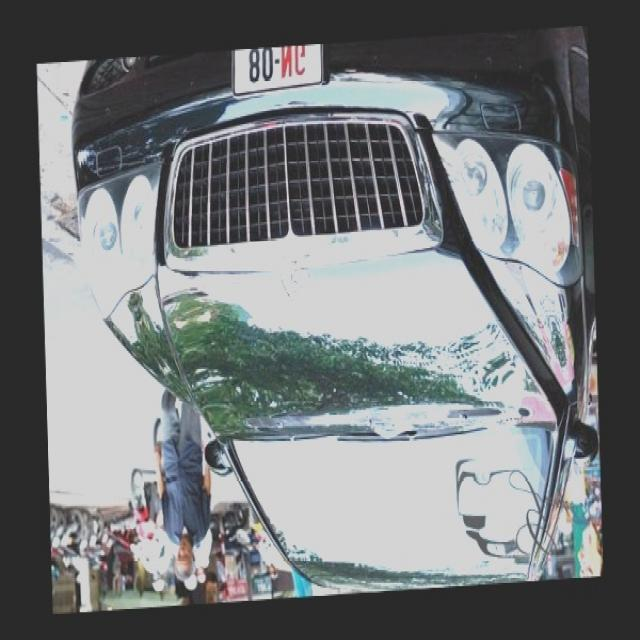bien_ngoai_giao: (229, 41, 323, 91)
